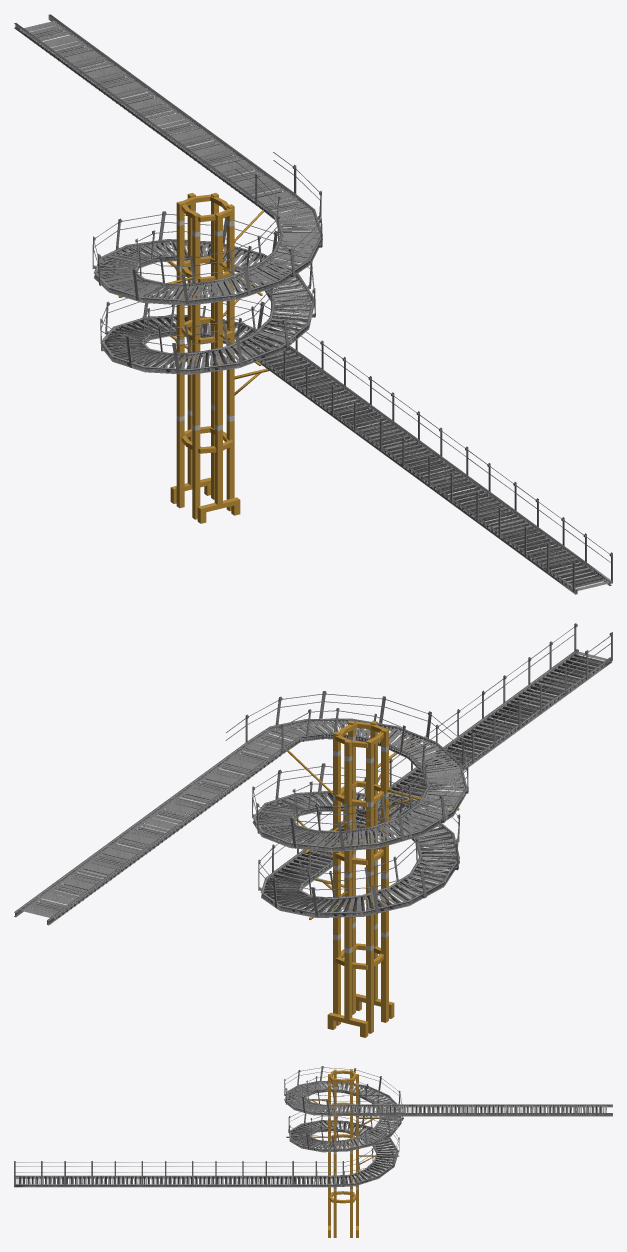
File: cinta transportadora.fbx
The picture shows the model from 3 angles, top to bottom: view 1: azimuth 30°, elevation 25°; view 2: azimuth 150°, elevation 25°; view 3: azimuth 270°, elevation 25°; orthographic projection. The views are drawn at different scales.
Parts seen in each view (by area): view 1: Plane.002, CINTA.003, Plane.001, CINTA.001, soportes 2, CINTA.002, baranda 2, baranda 1, soportes 2.001, baranda 2.001, baranda 1.001, soportes 3; view 2: Plane.002, CINTA.003, Plane.001, CINTA.001, soportes 2.001, baranda 2.001, CINTA.002, soportes 2, baranda 2, baranda 1.001, baranda 1, soportes 3.001; view 3: Plane.002, CINTA.001, CINTA.003, CINTA.002, soportes 2, Plane.001, baranda 2.001, baranda 2, baranda 1, baranda 1.001, soportes 2.001, soportes 3 (+1 smaller).
Boxes of the visible parts, bbox=[...] form: Plane.002: bbox=[20, 21, 608, 589]; CINTA.003: bbox=[25, 29, 602, 588]; Plane.001: bbox=[20, 22, 608, 590]; CINTA.001: bbox=[14, 14, 609, 594]; soportes 2: bbox=[170, 195, 240, 523]; CINTA.002: bbox=[15, 17, 611, 594]; baranda 2: bbox=[92, 152, 612, 583]; baranda 1: bbox=[134, 162, 576, 592]; soportes 2.001: bbox=[170, 193, 238, 523]; baranda 2.001: bbox=[93, 152, 612, 583]; baranda 1.001: bbox=[134, 161, 576, 592]; soportes 3: bbox=[181, 196, 232, 453]; Plane.002: bbox=[22, 651, 610, 917]; CINTA.003: bbox=[34, 654, 606, 917]; Plane.001: bbox=[22, 653, 610, 918]; CINTA.001: bbox=[14, 650, 611, 924]; soportes 2.001: bbox=[327, 720, 393, 1037]; baranda 2.001: bbox=[225, 623, 578, 916]; CINTA.002: bbox=[14, 649, 611, 925]; soportes 2: bbox=[329, 720, 394, 1037]; baranda 2: bbox=[226, 623, 578, 916]; baranda 1.001: bbox=[262, 632, 612, 900]; baranda 1: bbox=[262, 632, 612, 900]; soportes 3.001: bbox=[335, 721, 384, 969]; Plane.002: bbox=[15, 1082, 606, 1185]; CINTA.001: bbox=[16, 1081, 612, 1187]; CINTA.003: bbox=[19, 1082, 601, 1184]; CINTA.002: bbox=[14, 1081, 612, 1187]; soportes 2: bbox=[328, 1069, 358, 1237]; Plane.001: bbox=[29, 1082, 606, 1185]; baranda 2.001: bbox=[14, 1066, 403, 1186]; baranda 2: bbox=[14, 1066, 403, 1186]; baranda 1: bbox=[14, 1076, 381, 1174]; baranda 1.001: bbox=[14, 1076, 381, 1177]; soportes 2.001: bbox=[328, 1069, 358, 1237]; soportes 3: bbox=[329, 1070, 355, 1203].
Bounding box in the file's own units: 487 × 706 × 2399.
Materials: 3 (2 with a texture image).
